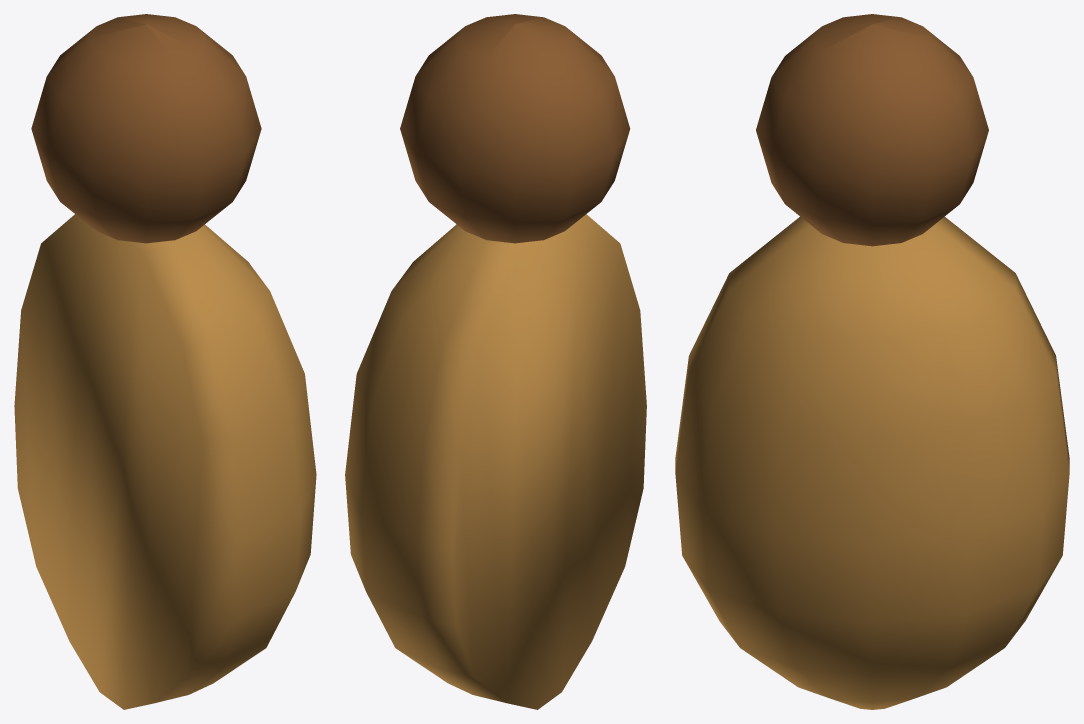
Rendered from hand_l.dae.
3 views of the same model, side by side, from view 1: azimuth 30°, elevation 25°; view 2: azimuth 150°, elevation 25°; view 3: azimuth 270°, elevation 25° (orthographic).
Visible parts, largest first — view 1: Hand_L_Skin, Wrist_L_Skin; view 2: Hand_L_Skin, Wrist_L_Skin; view 3: Hand_L_Skin, Wrist_L_Skin.
Part boxes in pixels (x1=…): Hand_L_Skin: x1=14, y1=214, x2=316, y2=709; Wrist_L_Skin: x1=31, y1=14, x2=261, y2=243; Hand_L_Skin: x1=345, y1=214, x2=646, y2=709; Wrist_L_Skin: x1=400, y1=14, x2=630, y2=243; Hand_L_Skin: x1=675, y1=216, x2=1069, y2=709; Wrist_L_Skin: x1=756, y1=14, x2=988, y2=246.
Size of the model in its own units: 2.72 by 3.82 by 7.24.
